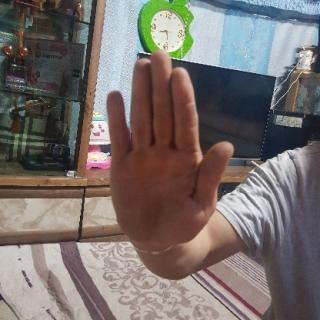SEEN: (102, 44, 233, 257)
